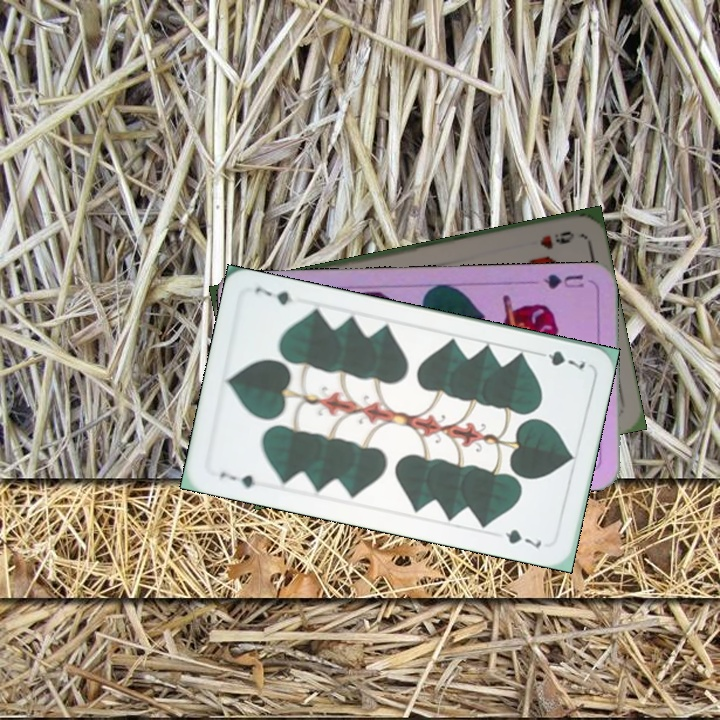G7: (531, 346, 588, 372), (216, 468, 258, 490)
GU: (540, 270, 586, 292)
H9: (536, 227, 577, 251)
